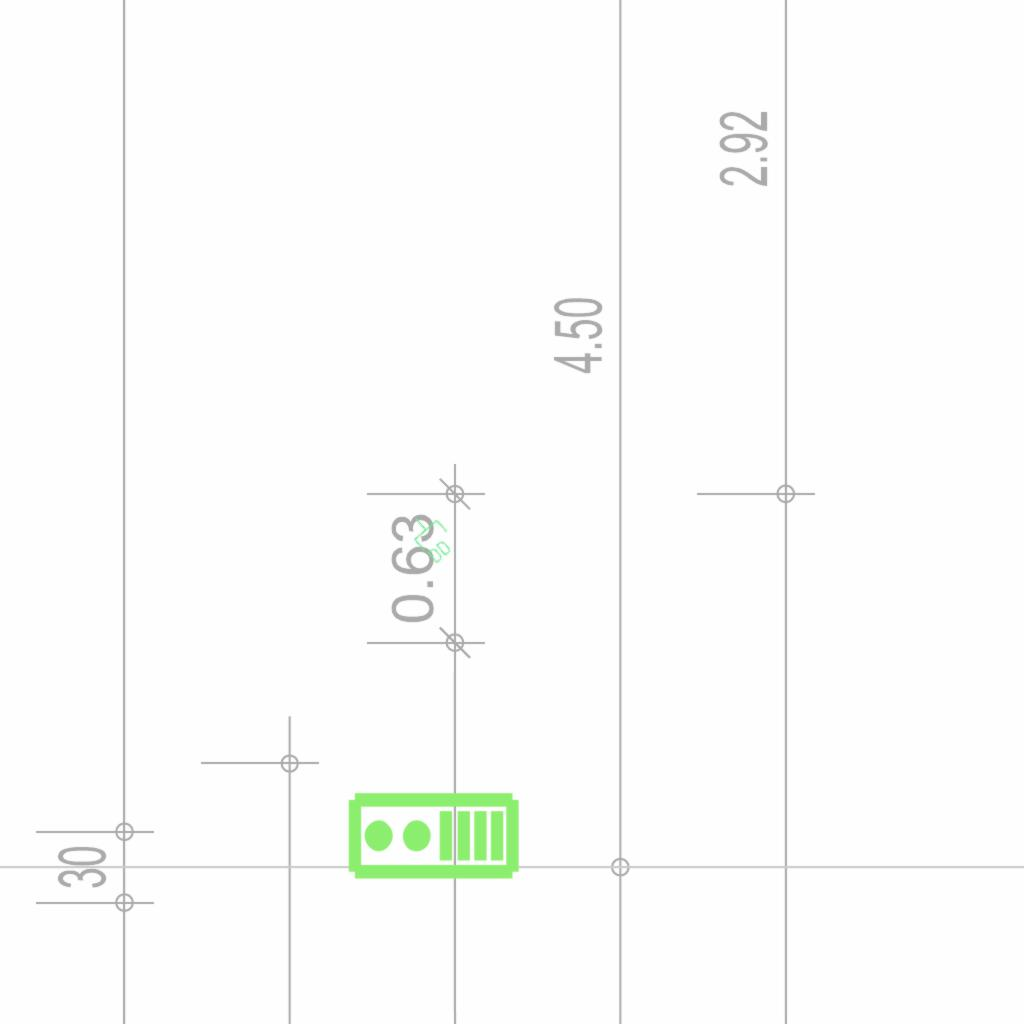Datenanschluss_zweifach: (401, 506, 462, 568)
Gegensprechanlage_mit_Video: (345, 790, 521, 885)
